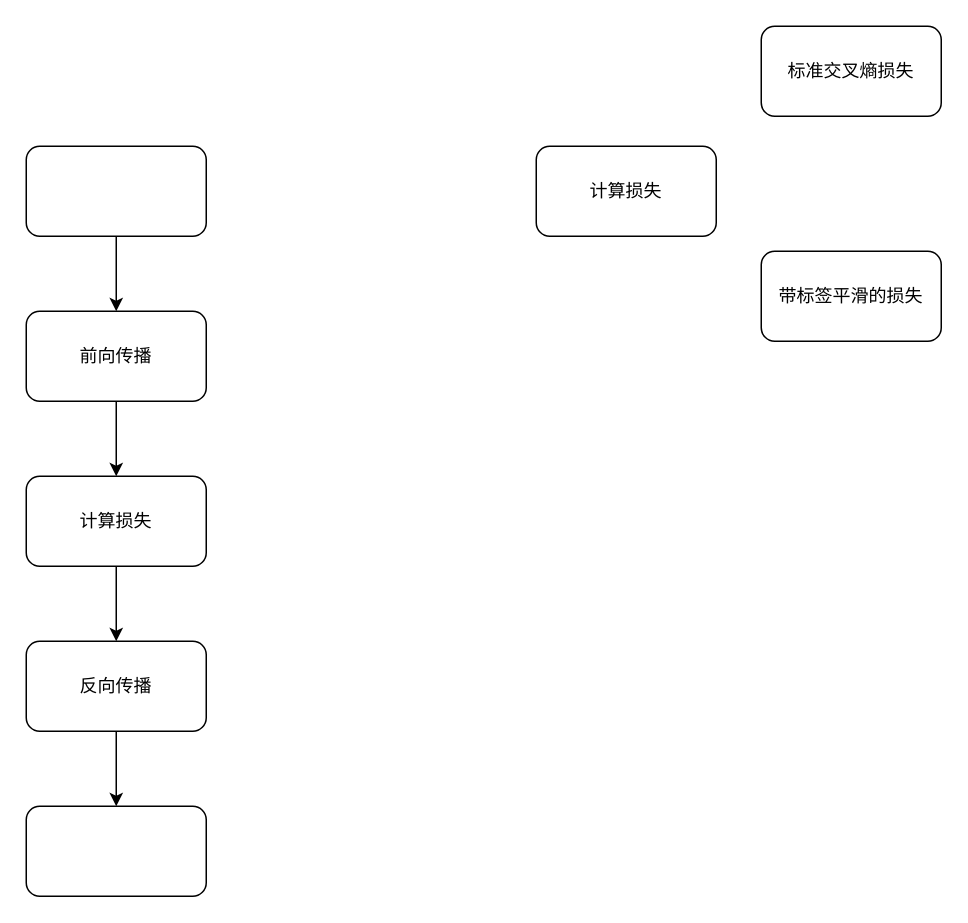
Image size: 968x923. Some labels were removed from this diagram. Here are the shapes that lost their labels. From the top down, the centre of each, then its label:
At (115,190): "梯度清零".
At (115,850): "参数更新".
